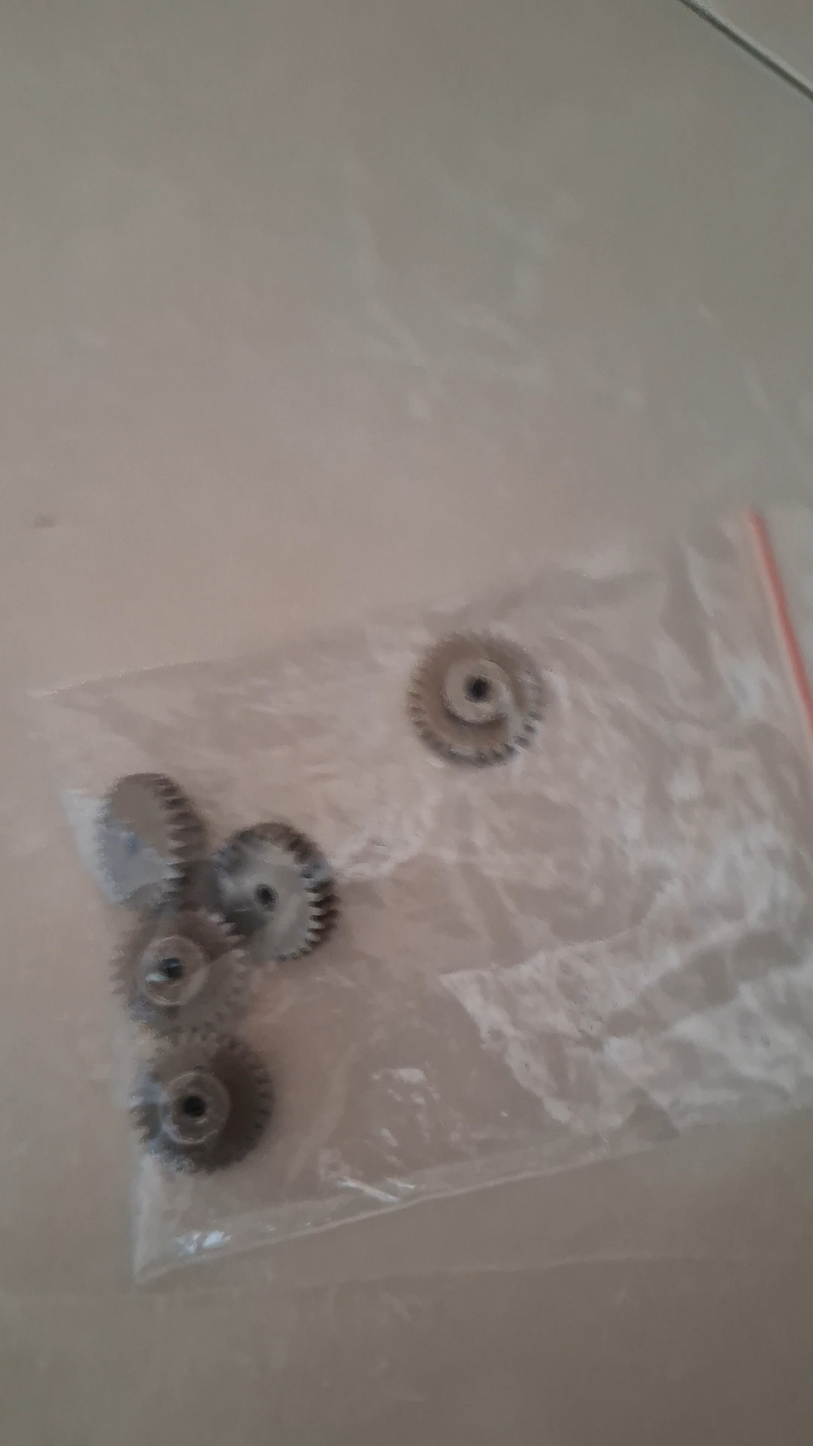spur gear: (130, 1035, 272, 1171), (113, 908, 250, 1035), (408, 635, 542, 764), (212, 822, 336, 961), (99, 773, 205, 909)
